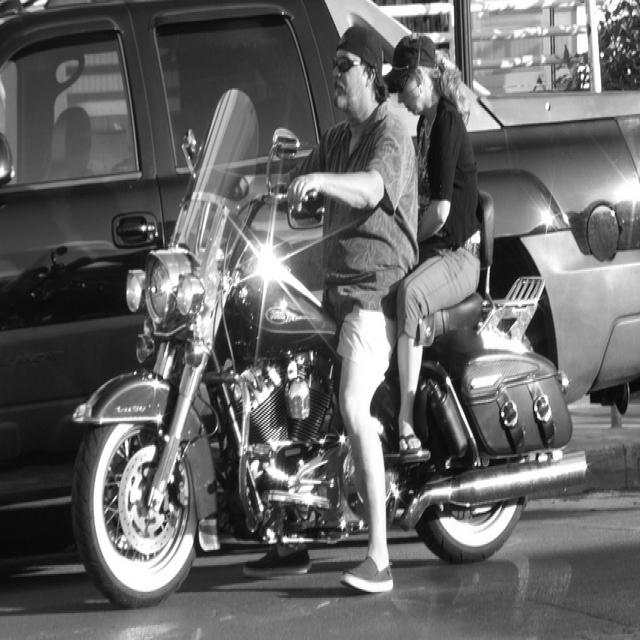motor: (65, 89, 604, 613)
